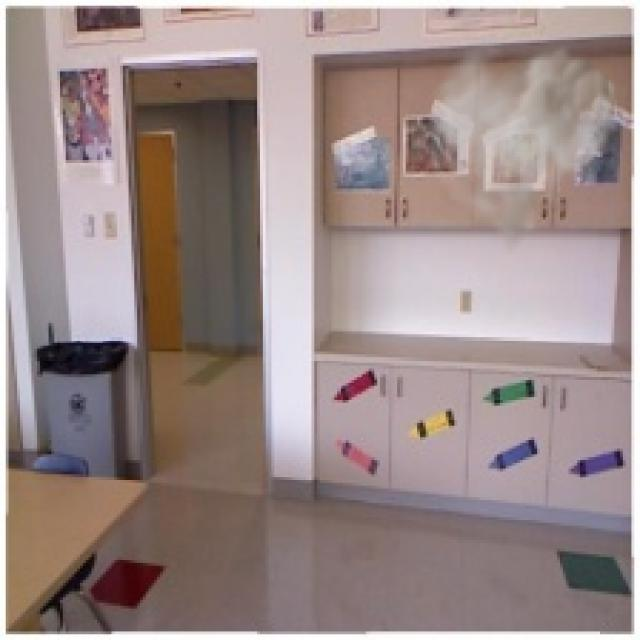smoke: (420, 23, 634, 257)
